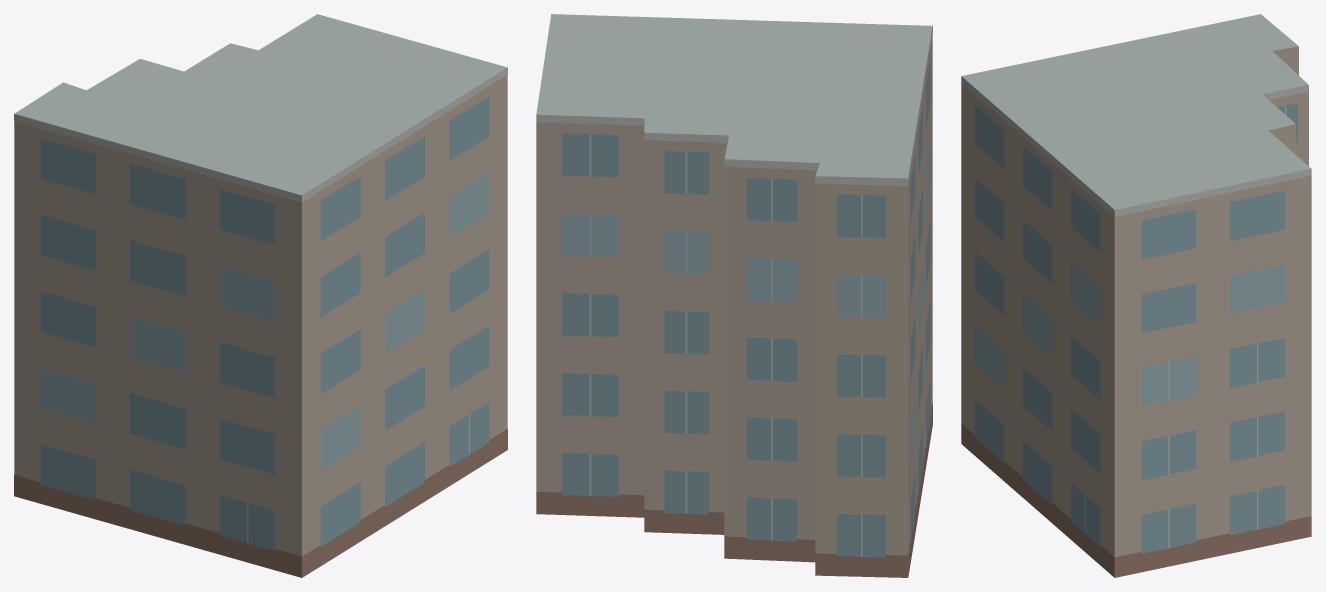
Rendered from survey-upis-32697517.glb.
3 views of the same model, side by side, from view 1: azimuth 30°, elevation 25°; view 2: azimuth 150°, elevation 25°; view 3: azimuth 270°, elevation 25° (orthographic). The views are drawn at different scales.
Visible parts, largest first — view 1: survey-upis-32697517.tmp; view 2: survey-upis-32697517.tmp; view 3: survey-upis-32697517.tmp.
Boxes of the visible parts, <box> form: survey-upis-32697517.tmp: <box>14,14,507,577</box>; survey-upis-32697517.tmp: <box>536,14,932,577</box>; survey-upis-32697517.tmp: <box>961,14,1311,577</box>.
Size of the model in its own units: 14.87 by 13 by 11.23.
